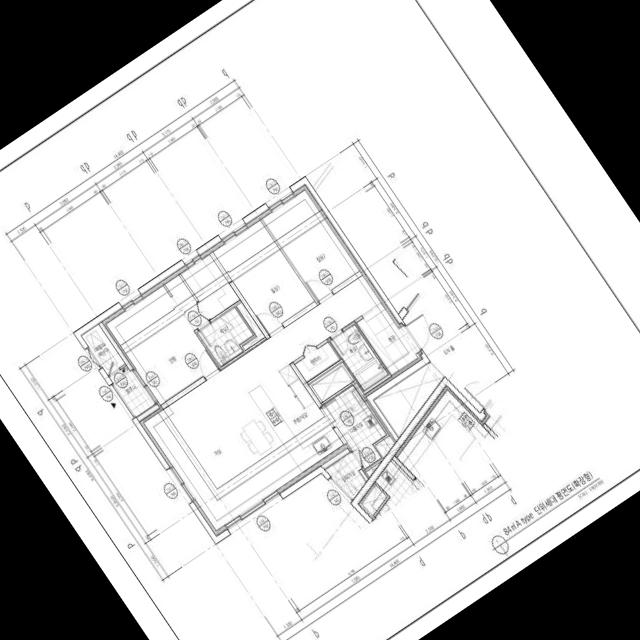space_balconi: (110, 366, 155, 417)
space_bedroom: (106, 254, 240, 404), (213, 220, 315, 332), (263, 190, 360, 299)
space_elevator_hall: (306, 154, 495, 437)
space_front: (357, 305, 418, 375)
space_kitchen: (249, 364, 344, 472)
space_living_room: (144, 364, 303, 530)
space_multipurpose_space: (323, 385, 387, 469)
space_other: (230, 275, 381, 392), (82, 324, 125, 375), (309, 362, 355, 403), (295, 342, 340, 382), (237, 302, 265, 350), (376, 436, 395, 458), (367, 461, 382, 477)
space_outdoor_room: (325, 452, 366, 499)
space_toilet: (330, 324, 389, 391), (198, 307, 254, 367)
